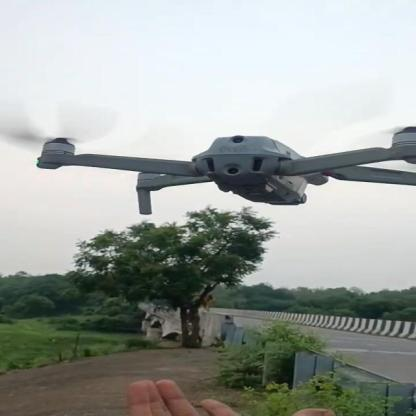drone: (35, 126, 415, 215)
